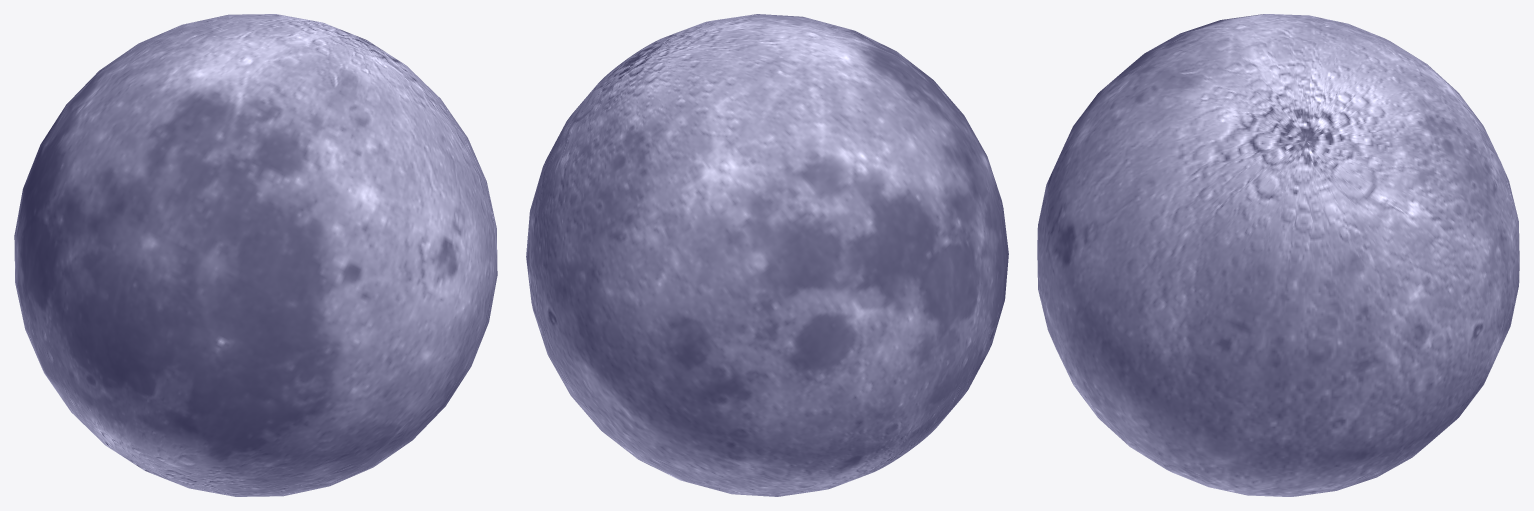
Rendered from lune.glb.
The picture shows the model from 3 angles, left to right: view 1: azimuth 30°, elevation 25°; view 2: azimuth 150°, elevation 25°; view 3: azimuth 270°, elevation 25°; orthographic projection.
Visible parts, largest first — view 1: Object_41; view 2: Object_41; view 3: Object_41.
Part boxes in pixels (x1,y1,x2,y2): Object_41: (14, 14, 497, 496); Object_41: (526, 14, 1008, 496); Object_41: (1037, 14, 1519, 496).
Bounding box in the file's own units: 11.99 × 11.98 × 11.92.
Materials: 1 (1 with a texture image).
